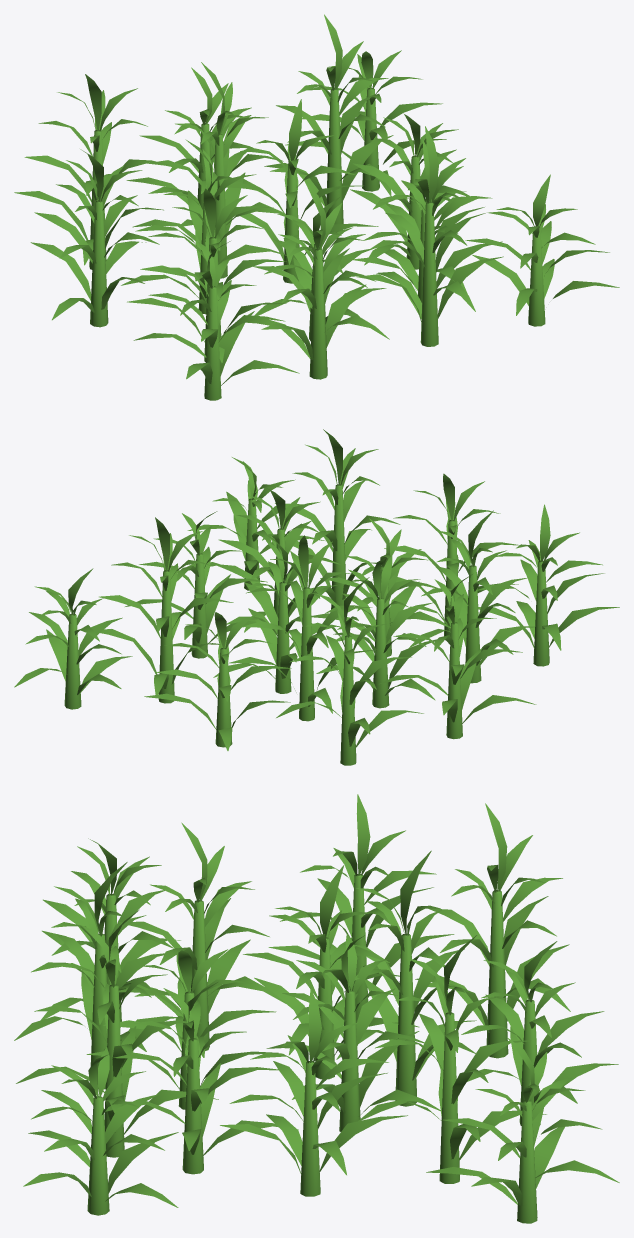
File: Lavender.lv.002.fbx
3 renders of one model, top to bottom at view 1: azimuth 30°, elevation 25°; view 2: azimuth 150°, elevation 25°; view 3: azimuth 270°, elevation 25°, orthographic. The views are drawn at different scales.
Parts seen in each view (by area): view 1: Cube.049; view 2: Cube.049; view 3: Cube.049.
Boxes of the visible parts, x1,y1,x2,y2 form: Cube.049: (14,14,619,400); Cube.049: (14,429,619,765); Cube.049: (14,794,619,1223).
Size of the model in its own units: 213 by 89.91 by 200.
